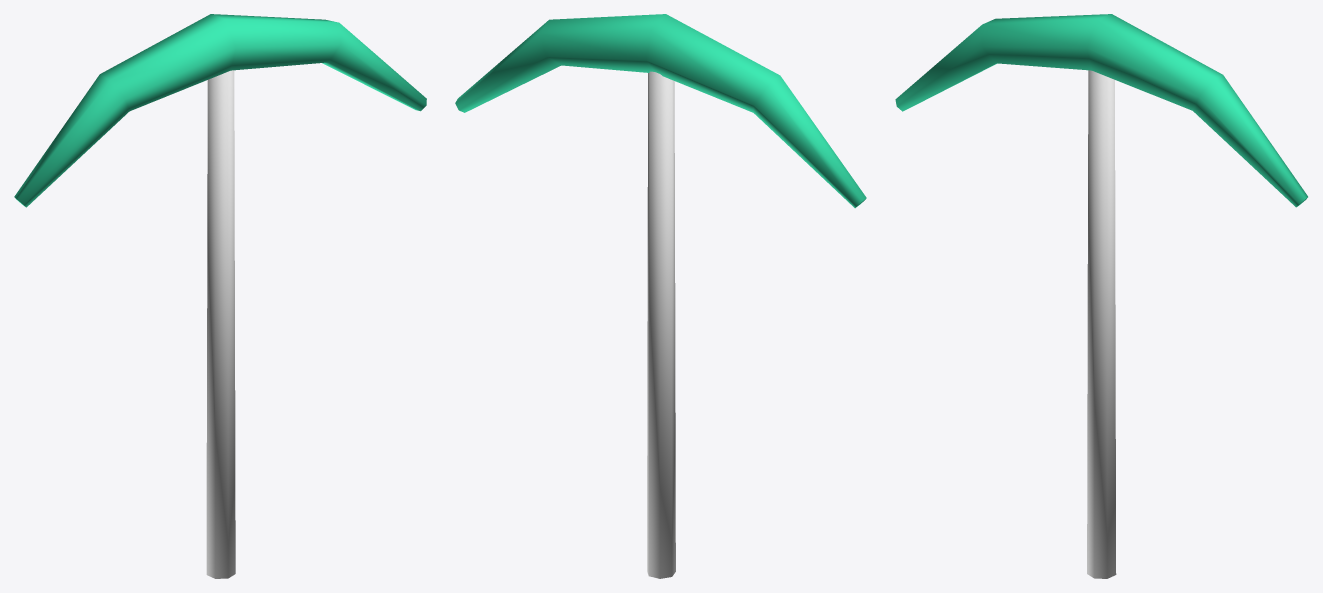
The model's file is vortex_pickaxe.glb.
3 views of the same model, side by side, from view 1: azimuth 30°, elevation 25°; view 2: azimuth 150°, elevation 25°; view 3: azimuth 330°, elevation 25° (orthographic).
Parts seen in each view (by area): view 1: vortex_pickaxe_v0; view 2: vortex_pickaxe_v0; view 3: vortex_pickaxe_v0.
Part boxes in pixels (x1,y1,x2,y2): vortex_pickaxe_v0: [14, 14, 426, 578]; vortex_pickaxe_v0: [455, 14, 866, 578]; vortex_pickaxe_v0: [895, 14, 1307, 578].
Size of the model in its own units: 0.6949 by 0.9026 by 0.0883.
